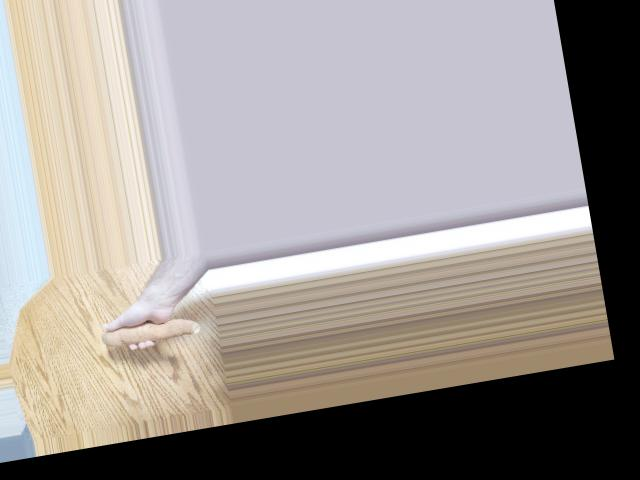sweet_potato: (97, 304, 202, 350)
